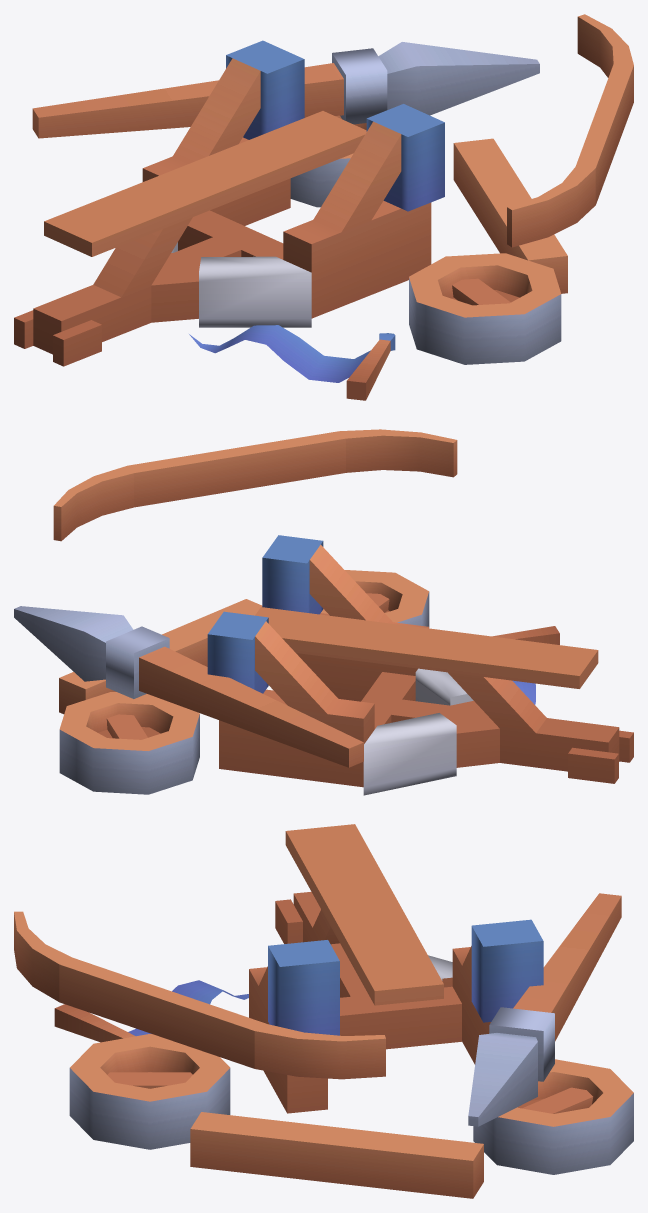
File: siege-ballista-demolished.glb
The picture shows the model from 3 angles, top to bottom: view 1: azimuth 30°, elevation 25°; view 2: azimuth 150°, elevation 25°; view 3: azimuth 270°, elevation 25°; orthographic projection. The views are drawn at different scales.
Visible parts, largest first — view 1: siege-ballista-demolished; view 2: siege-ballista-demolished; view 3: siege-ballista-demolished.
Part boxes in pixels (bbox=[...]): siege-ballista-demolished: bbox=[14, 14, 633, 400]; siege-ballista-demolished: bbox=[14, 429, 633, 795]; siege-ballista-demolished: bbox=[14, 824, 633, 1198].
Bounding box in the file's own units: 1.75 × 0.5098 × 1.55.
1 material, 1 textured.
